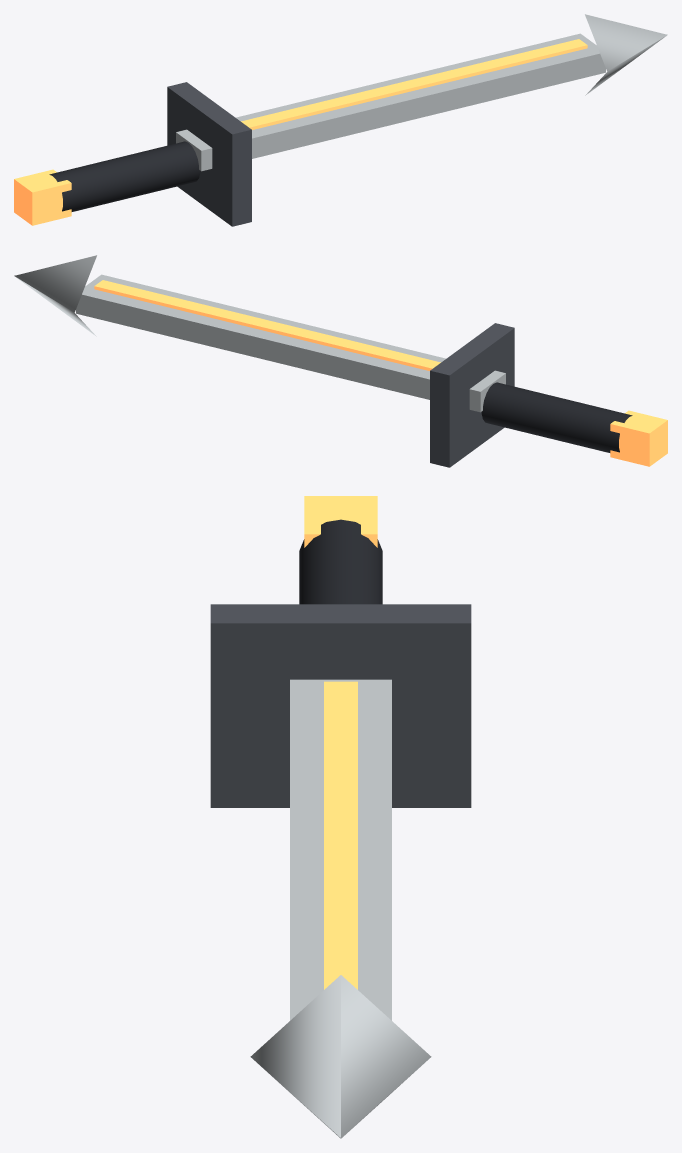
Rendered from wraith-blade-g.glb.
The picture shows the model from 3 angles, top to bottom: view 1: azimuth 30°, elevation 25°; view 2: azimuth 150°, elevation 25°; view 3: azimuth 270°, elevation 25°; orthographic projection. The views are drawn at different scales.
Visible parts, largest first — view 1: wraith-blade-g free asset preview part 1, wraith-blade-g free asset preview part 5, wraith-blade-g free asset preview part 4, wraith-blade-g free asset preview part 2, wraith-blade-g free asset preview part 3, wraith-blade-g free asset preview part 6; view 2: wraith-blade-g free asset preview part 1, wraith-blade-g free asset preview part 5, wraith-blade-g free asset preview part 4, wraith-blade-g free asset preview part 2, wraith-blade-g free asset preview part 3, wraith-blade-g free asset preview part 6; view 3: wraith-blade-g free asset preview part 5, wraith-blade-g free asset preview part 1, wraith-blade-g free asset preview part 3, wraith-blade-g free asset preview part 2, wraith-blade-g free asset preview part 4, wraith-blade-g free asset preview part 6.
Boxes of the visible parts, x1,y1,x2,y2 form: wraith-blade-g free asset preview part 1: (176, 33, 605, 171); wraith-blade-g free asset preview part 5: (167, 82, 251, 226); wraith-blade-g free asset preview part 4: (49, 141, 200, 211); wraith-blade-g free asset preview part 2: (241, 39, 587, 129); wraith-blade-g free asset preview part 3: (585, 14, 667, 95); wraith-blade-g free asset preview part 6: (14, 169, 71, 225); wraith-blade-g free asset preview part 1: (76, 274, 505, 412); wraith-blade-g free asset preview part 5: (430, 323, 514, 467); wraith-blade-g free asset preview part 4: (481, 382, 632, 452); wraith-blade-g free asset preview part 2: (94, 280, 440, 370); wraith-blade-g free asset preview part 3: (14, 255, 96, 336); wraith-blade-g free asset preview part 6: (610, 410, 667, 466); wraith-blade-g free asset preview part 5: (210, 604, 471, 807); wraith-blade-g free asset preview part 1: (290, 679, 391, 1020); wraith-blade-g free asset preview part 3: (250, 975, 431, 1138); wraith-blade-g free asset preview part 2: (324, 681, 357, 989); wraith-blade-g free asset preview part 4: (299, 519, 382, 604); wraith-blade-g free asset preview part 6: (304, 496, 377, 547).
Size of the model in its own units: 2.63 by 0.37 by 0.46.
